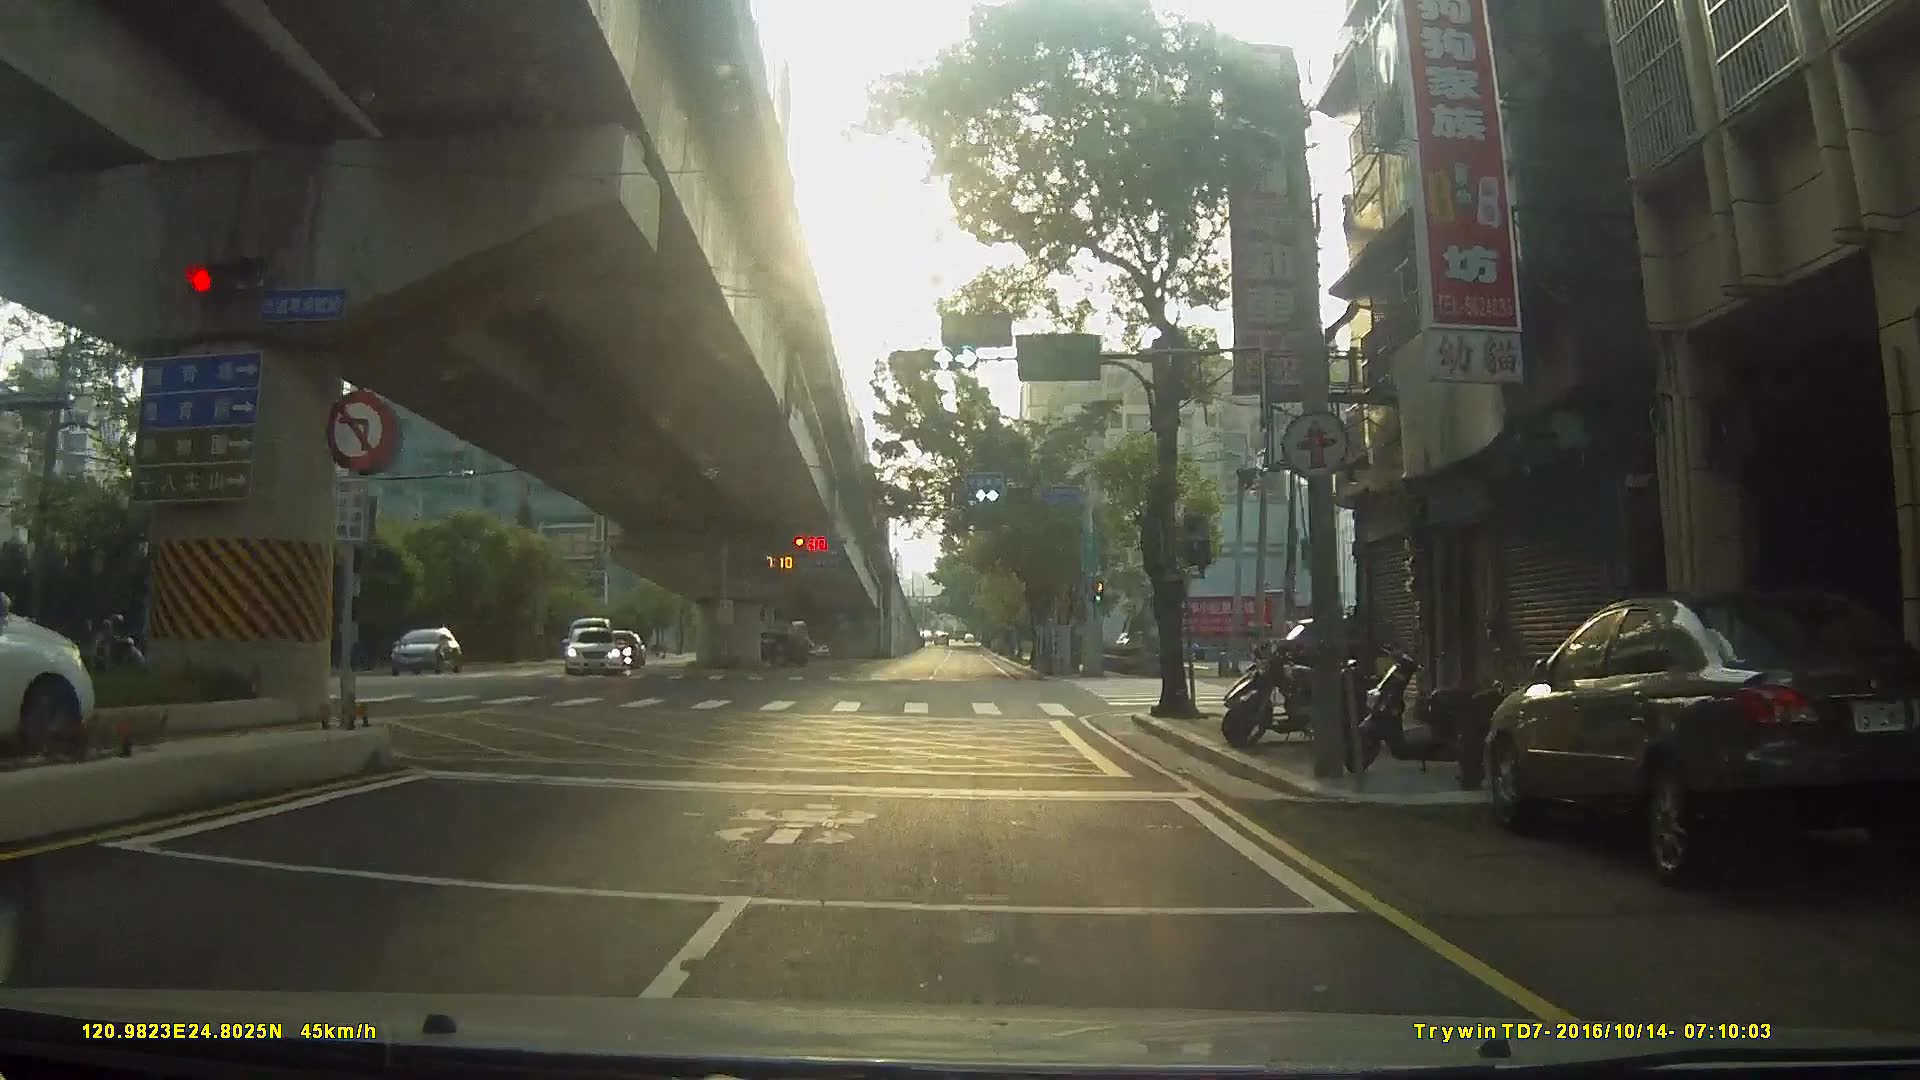vehicle: (1468, 579, 1920, 899), (1, 585, 105, 775), (378, 624, 455, 675), (558, 626, 621, 676), (738, 626, 811, 669)
